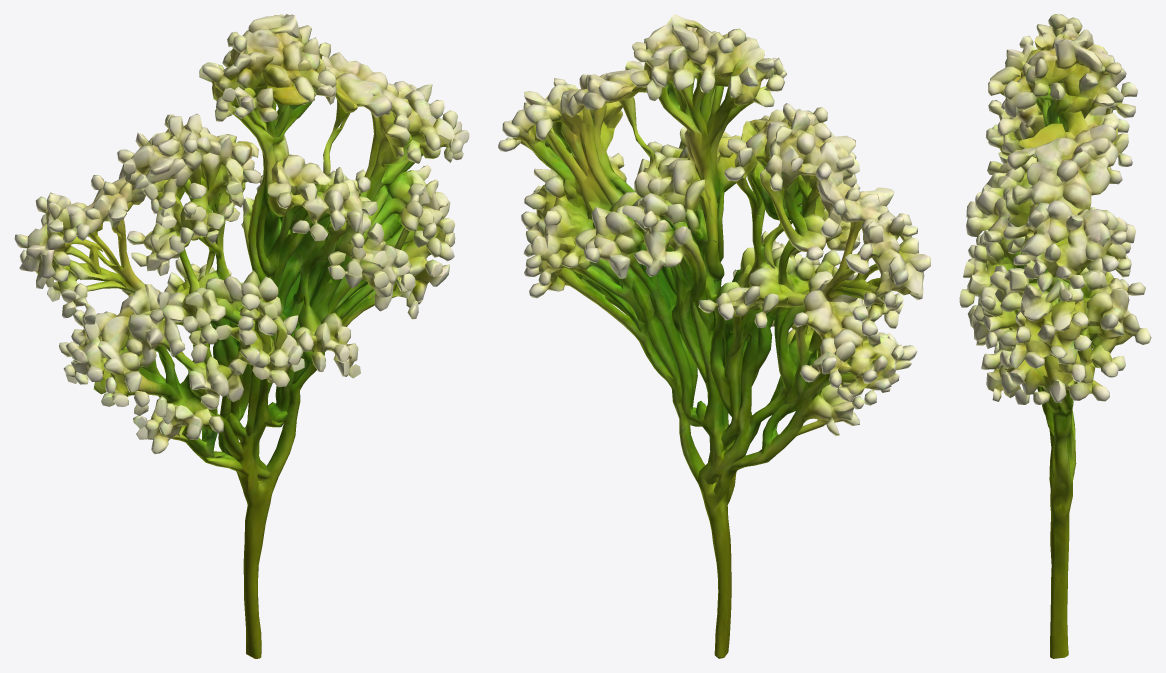
Rendered from cream_wildflower.glb.
3 views of the same model, side by side, from view 1: azimuth 30°, elevation 25°; view 2: azimuth 150°, elevation 25°; view 3: azimuth 270°, elevation 25° (orthographic).
Visible parts, largest first — view 1: model; view 2: model; view 3: model.
Part boxes in pixels (x1,y1,x2,y2): model: (14,14,469,658); model: (498,14,930,658); model: (959,14,1151,658).
Bounding box in the file's own units: 1.36 × 1.9 × 0.516.
Materials: 1 (1 with a texture image).
